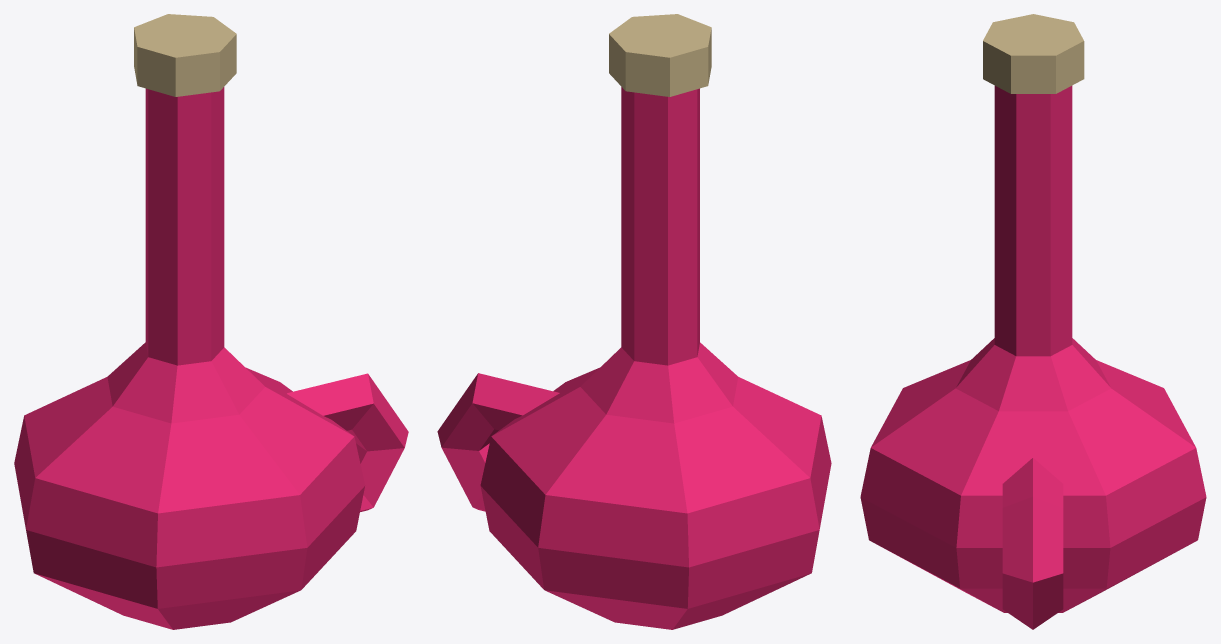
File: LongHandlePotion.008.fbx
3 views of the same model, side by side, from view 1: azimuth 30°, elevation 25°; view 2: azimuth 150°, elevation 25°; view 3: azimuth 270°, elevation 25° (orthographic). The views are drawn at different scales.
Parts seen in each view (by area): view 1: LongHandlePotion.008; view 2: LongHandlePotion.008; view 3: LongHandlePotion.008.
Boxes of the visible parts, x1,y1,x2,y2 form: LongHandlePotion.008: (14, 14, 408, 629); LongHandlePotion.008: (437, 14, 831, 629); LongHandlePotion.008: (860, 14, 1206, 629).
Size of the model in its own units: 16.54 by 23.36 by 13.29.
